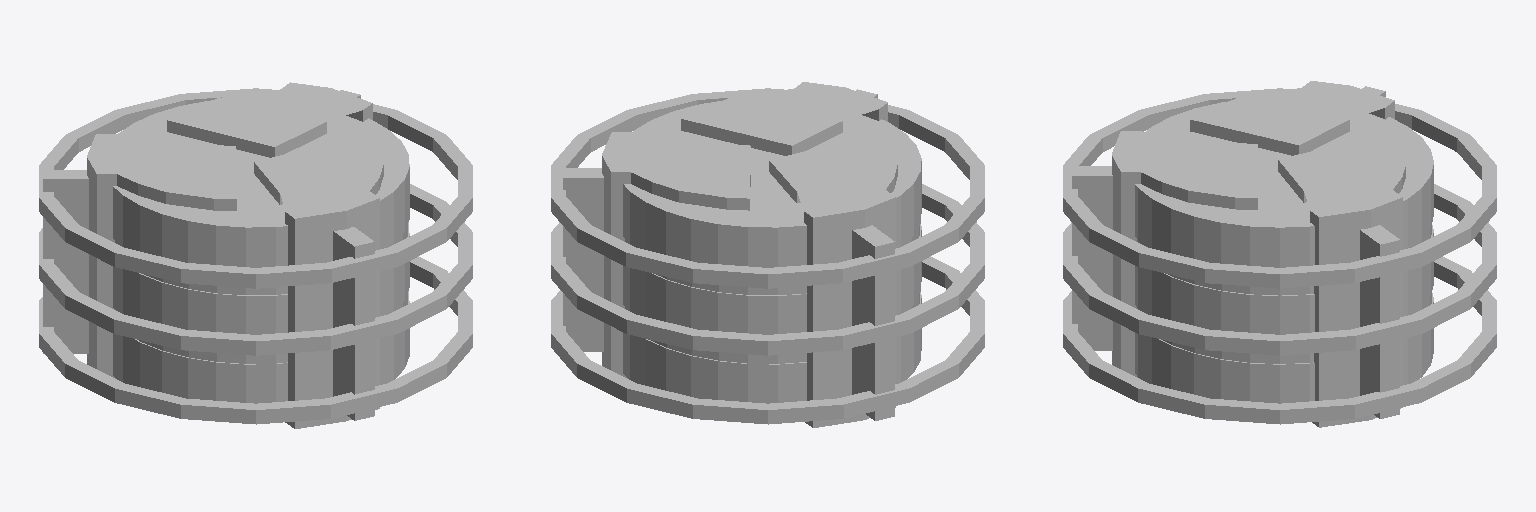
File: Power Station.obj
3 renders of one model, left to right at view 1: azimuth 30°, elevation 25°; view 2: azimuth 150°, elevation 25°; view 3: azimuth 270°, elevation 25°, orthographic.
Bounding box in the file's own units: 466 × 246 × 459.